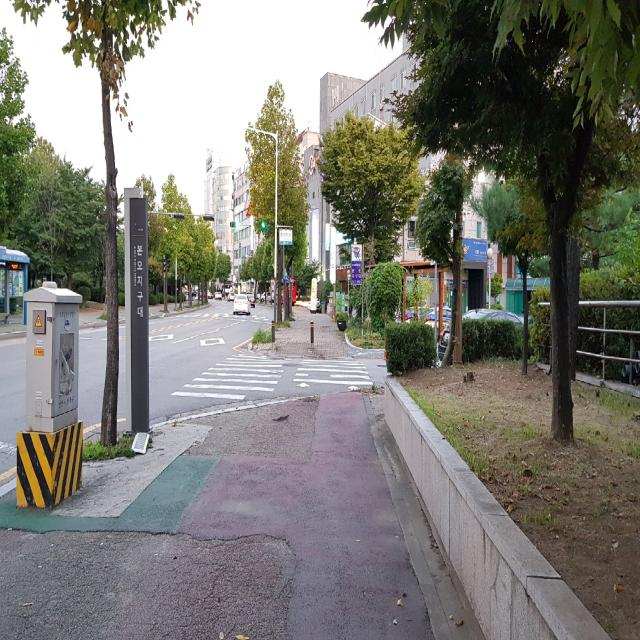횡단보도: (170, 353, 374, 401)
